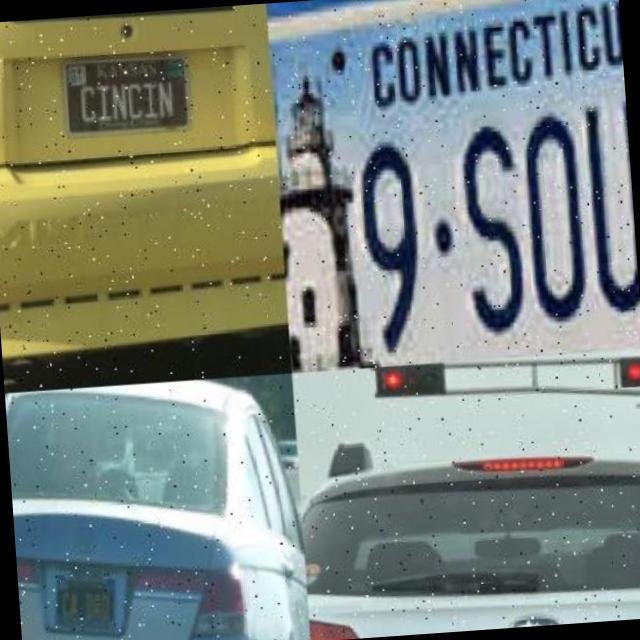LicensePlate: (268, 29, 640, 372), (54, 62, 182, 143), (41, 566, 119, 640)
